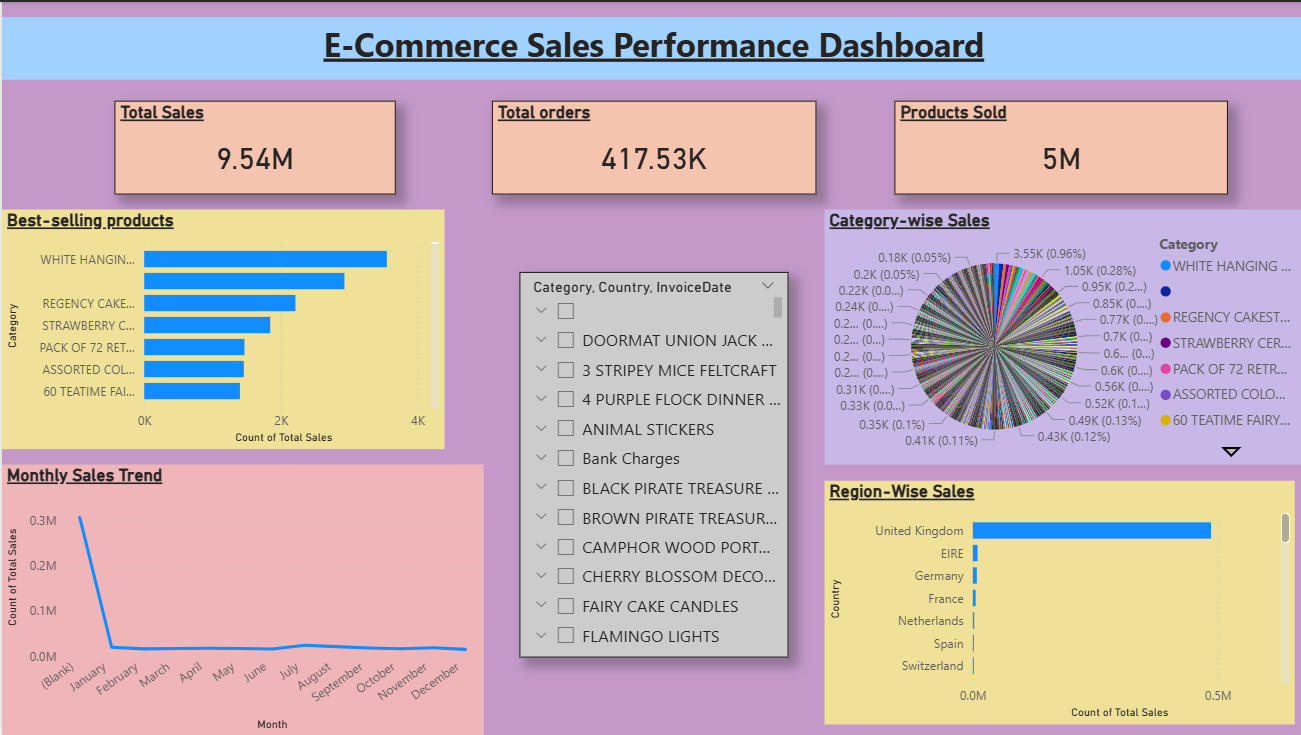

The page's visual inventory and layout, read from the dashboard file:
{"tool":"powerbi","page":{"name":"Page 1","canvas":[1280,720],"ordinal":0},"visuals":[{"type":"barChart","fields":{"Y":["CountNonNull(Year 2009-2010.Total Sales)"],"Category":["Year 2009-2010.Category"]},"box":[25.7,108.8,432.9,298.4],"z":0},{"type":"lineChart","fields":{"Category":["Year 2009-2010.InvoiceDate.Variation.Date Hierarchy.Month"],"Y":["CountNonNull(Year 2009-2010.Total Sales)"]},"box":[834,75.8,417,283.7],"z":1},{"type":"pieChart","fields":{"Category":["Year 2009-2010.Category"],"Y":["CountNonNull(Year 2009-2010.Total Sales)"]},"box":[0,492.8,373,199.3],"z":2},{"type":"barChart","fields":{"Category":["Year 2009-2010.Country"],"Y":["CountNonNull(Year 2009-2010.Total Sales)"]},"box":[489.1,359.5,344.8,283.7],"z":3},{"type":"slicer","fields":{"Values":["Year 2009-2010.Category","Year 2009-2010.Country","Year 2009-2010.InvoiceDate"]},"box":[906.1,421.9,262.9,264.1],"z":4},{"type":"textbox","box":[470.8,83.2,295.9,149.2],"z":5}]}

Visuals, with their boxes in screenshot pixels (x1, y1, x2, y2), scaled from the page's 1280x720 canvas onto the 1301x735 screenshot:
barChart - CountNonNull(Year 2009-2010.Total Sales) x Year 2009-2010.Category: [26,111,466,416]
lineChart - Year 2009-2010.InvoiceDate.Variation.Date Hierarchy.Month x CountNonNull(Year 2009-2010.Total Sales): [848,77,1272,367]
pieChart - Year 2009-2010.Category x CountNonNull(Year 2009-2010.Total Sales): [0,503,379,707]
barChart - Year 2009-2010.Country x CountNonNull(Year 2009-2010.Total Sales): [497,367,848,657]
slicer - Year 2009-2010.Category x Year 2009-2010.Country: [921,431,1188,700]
textbox: [479,85,779,237]
